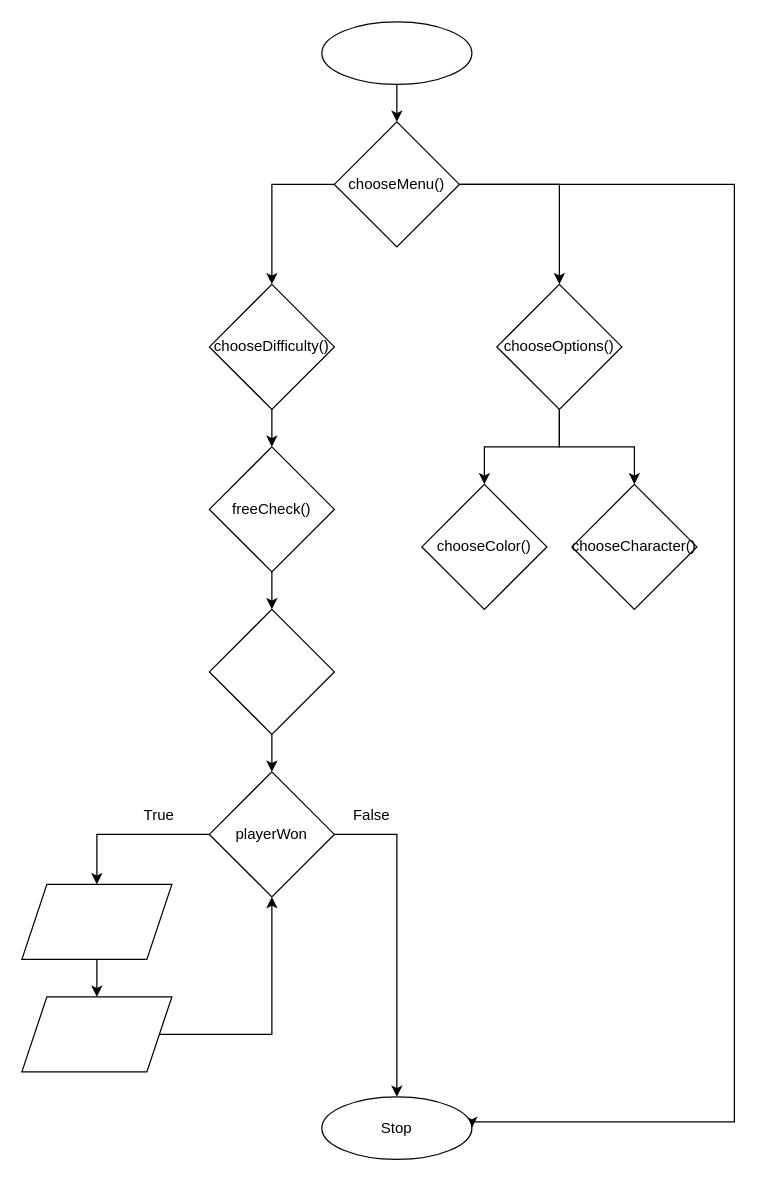
Image size: 766x1181. Some labels were removed from this diagram. The centre of each missing label's shape, as x and y in pixels:
playerMovement(): point (96, 1034)
printMaze(): point (96, 921)
Start: point (396, 52)
toVisited(): point (271, 671)
